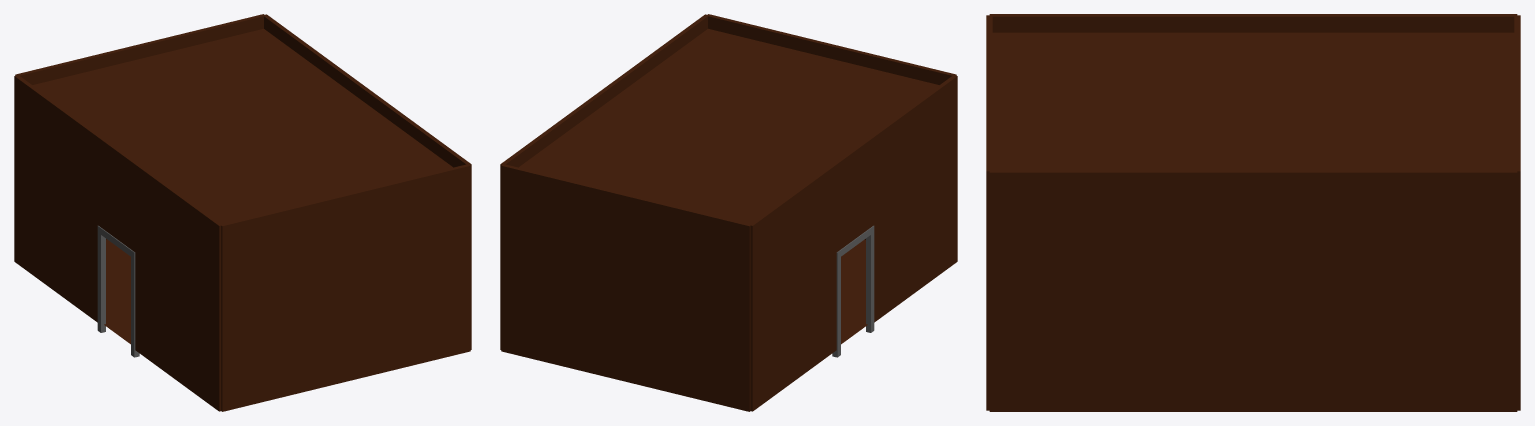
File: room_empty_big_button.glb
3 renders of one model, left to right at view 1: azimuth 30°, elevation 25°; view 2: azimuth 150°, elevation 25°; view 3: azimuth 270°, elevation 25°, orthographic. The views are drawn at different scales.
Parts seen in each view (by area): view 1: Cube.002, Plane.001, Cube, Cube.003, Cube.001, Plane.002, Cube.004; view 2: Cube.001, Plane.001, Cube, Cube.003, Cube.002, Plane.002, Cube.004; view 3: Cube.003, Plane.001, Cube, Cube.001, Cube.002.
Part boxes in pixels (left/top/right/bottom): Cube.002: left=221, top=164, right=470, bottom=411; Plane.001: left=32, top=28, right=452, bottom=223; Cube: left=14, top=75, right=222, bottom=411; Cube.003: left=263, top=14, right=471, bottom=349; Cube.001: left=15, top=14, right=265, bottom=239; Plane.002: left=104, top=239, right=130, bottom=344; Cube.004: left=97, top=225, right=139, bottom=357; Cube.001: left=501, top=164, right=751, bottom=411; Plane.001: left=519, top=28, right=939, bottom=223; Cube: left=749, top=75, right=957, bottom=411; Cube.003: left=500, top=14, right=708, bottom=349; Cube.002: left=706, top=14, right=956, bottom=239; Plane.002: left=841, top=239, right=867, bottom=344; Cube.004: left=832, top=225, right=874, bottom=357; Cube.003: left=989, top=170, right=1517, bottom=411; Plane.001: left=992, top=32, right=1514, bottom=170; Cube: left=989, top=14, right=1517, bottom=32; Cube.001: left=1514, top=15, right=1520, bottom=410; Cube.002: left=986, top=15, right=992, bottom=410.
Size of the model in its own units: 14.27 by 10.39 by 20.23.
